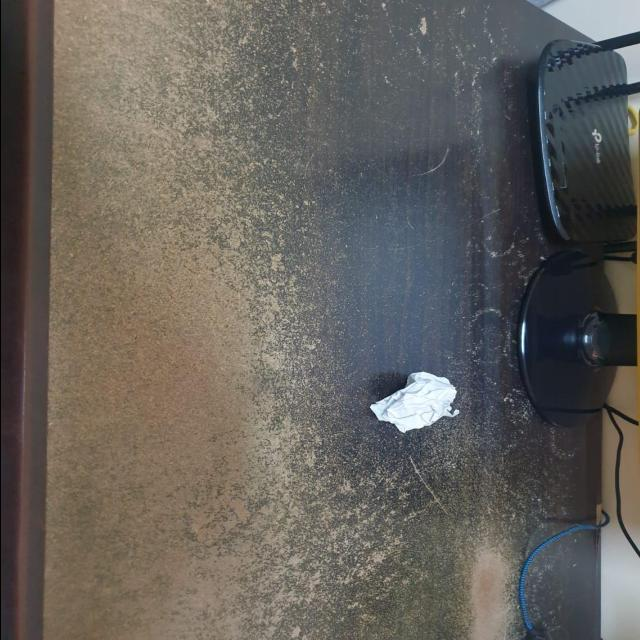kertas: (356, 376, 463, 438)
